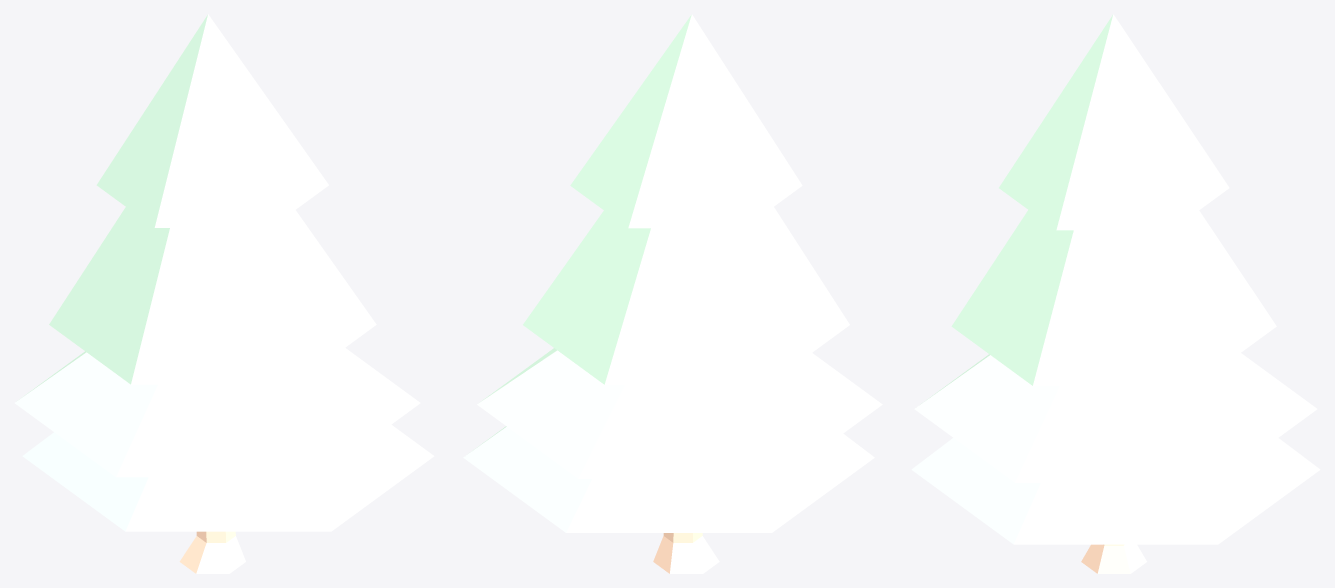
The model's file is sapin.glb.
3 views of the same model, side by side, from view 1: azimuth 30°, elevation 25°; view 2: azimuth 150°, elevation 25°; view 3: azimuth 270°, elevation 25° (orthographic).
Parts seen in each view (by area): view 1: sapin; view 2: sapin; view 3: sapin.
Part boxes in pixels (x1=…): sapin: x1=15, y1=14, x2=434, y2=573; sapin: x1=463, y1=14, x2=882, y2=573; sapin: x1=911, y1=14, x2=1320, y2=573.
Size of the model in its own units: 29.97 by 49.49 by 33.67.
